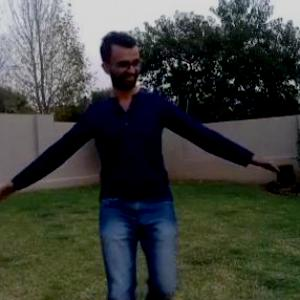land: (26, 34, 270, 299)
